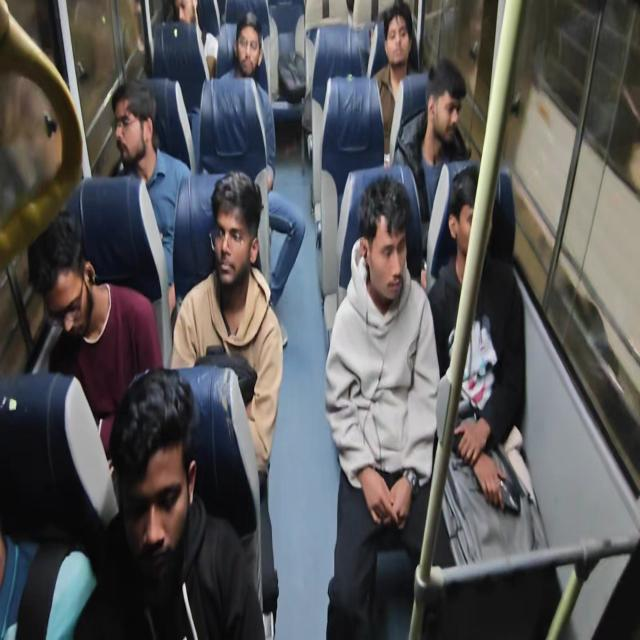person: (108, 360, 198, 570), (24, 206, 102, 349), (348, 174, 417, 323), (202, 169, 260, 293), (442, 168, 499, 275), (106, 83, 160, 167), (421, 62, 464, 143), (236, 5, 265, 77), (386, 5, 415, 74), (170, 0, 200, 30)
